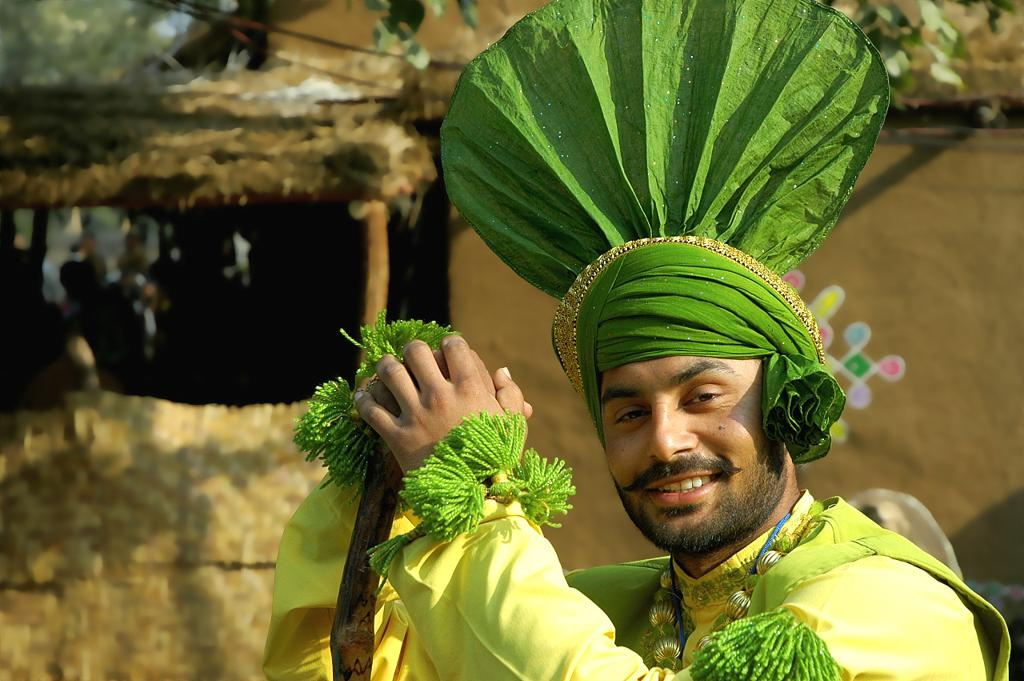face: (598, 308, 786, 546)
